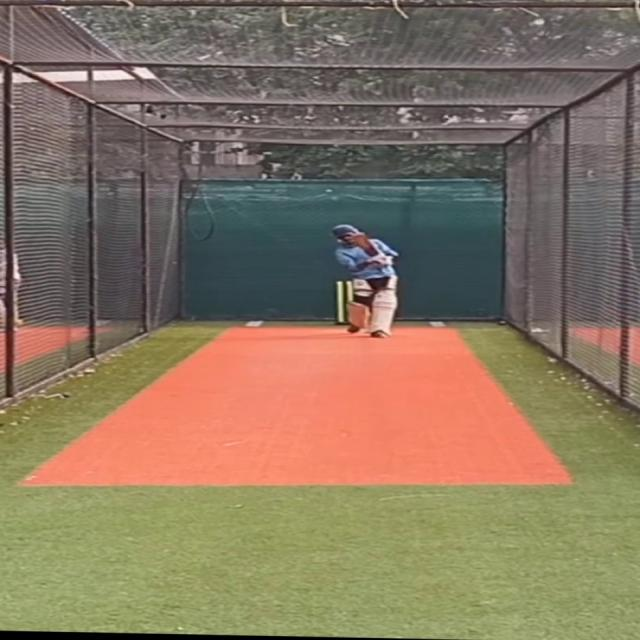stump: (332, 278, 354, 325)
